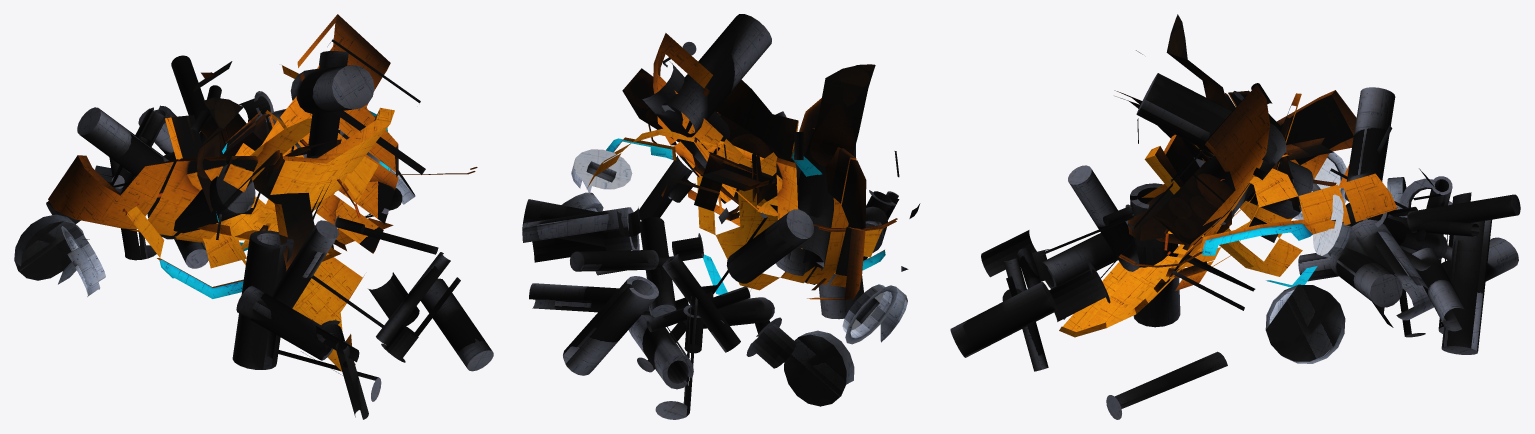
Rendered from MonsterA_die15.obj.
3 views of the same model, side by side, from view 1: azimuth 30°, elevation 25°; view 2: azimuth 150°, elevation 25°; view 3: azimuth 270°, elevation 25° (orthographic). The views are drawn at different scales.
Parts seen in each view (by area): view 1: Box001; view 2: Box001; view 3: Box001.
Part boxes in pixels (x1=…): Box001: x1=14, y1=14, x2=493, y2=419; Box001: x1=522, y1=14, x2=920, y2=419; Box001: x1=950, y1=14, x2=1520, y2=419.
Bounding box in the file's own units: 294 × 264 × 390.
Materials: 1 (1 with a texture image).
